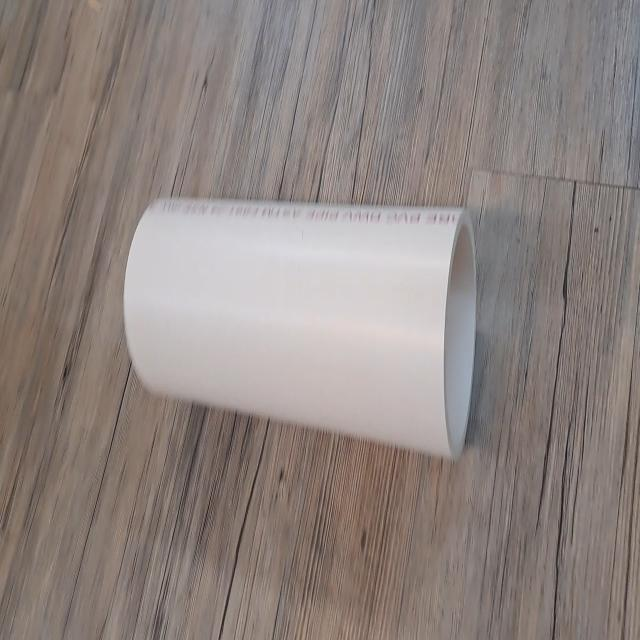CORAL: (121, 179, 483, 492)
